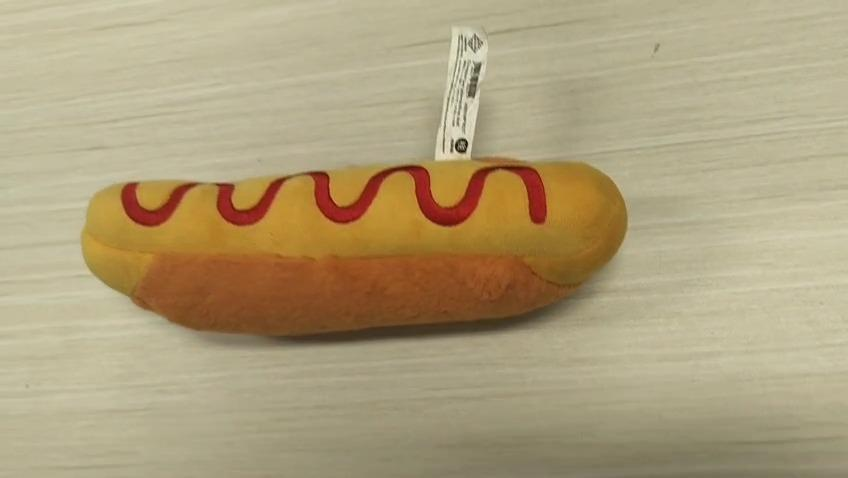hotdog: (79, 154, 628, 337)
